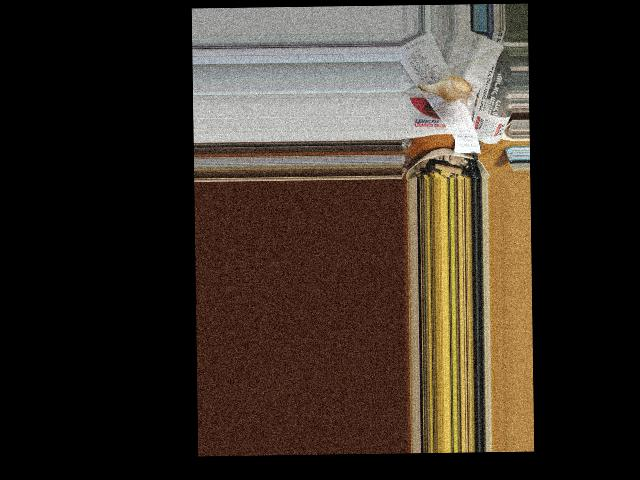onion: (433, 76, 469, 102)
